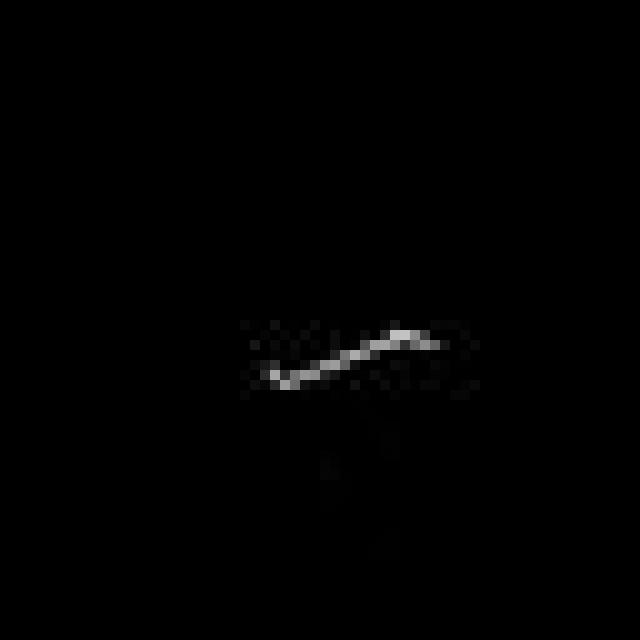1 -one-: (257, 320, 441, 398)
